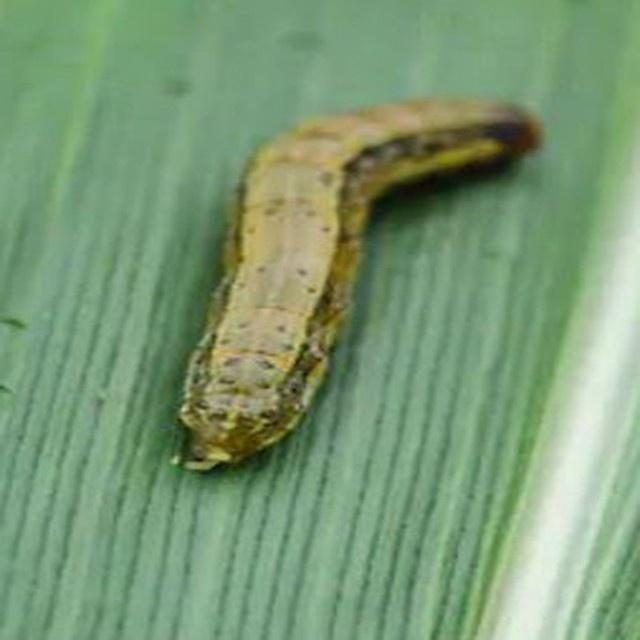gusano_cogollero: (169, 92, 547, 478)
